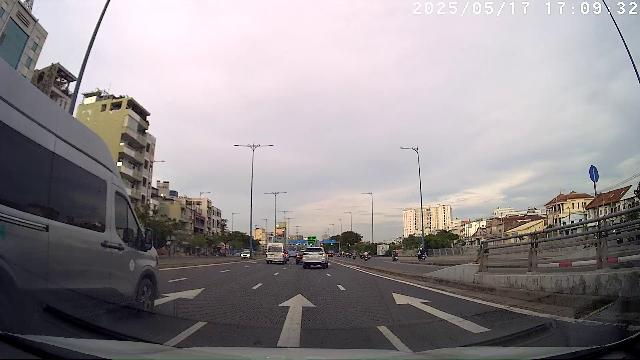301a-cac-xe-chi-duoc-di-thang: (588, 165, 600, 183)
